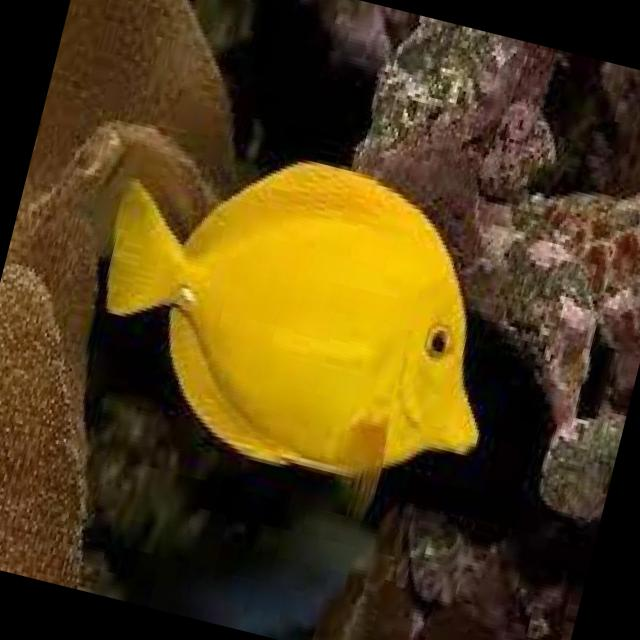TangFish: (65, 109, 533, 506)
